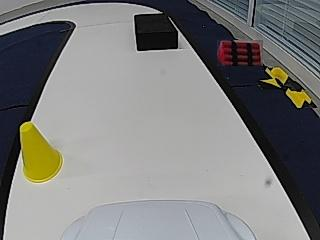block: (134, 13, 178, 50)
cone: (19, 118, 63, 182)
